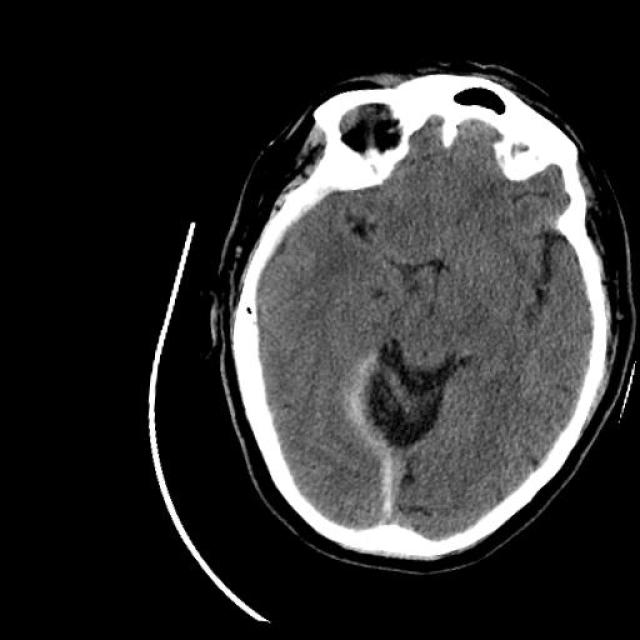Subdural: (319, 334, 477, 568)
